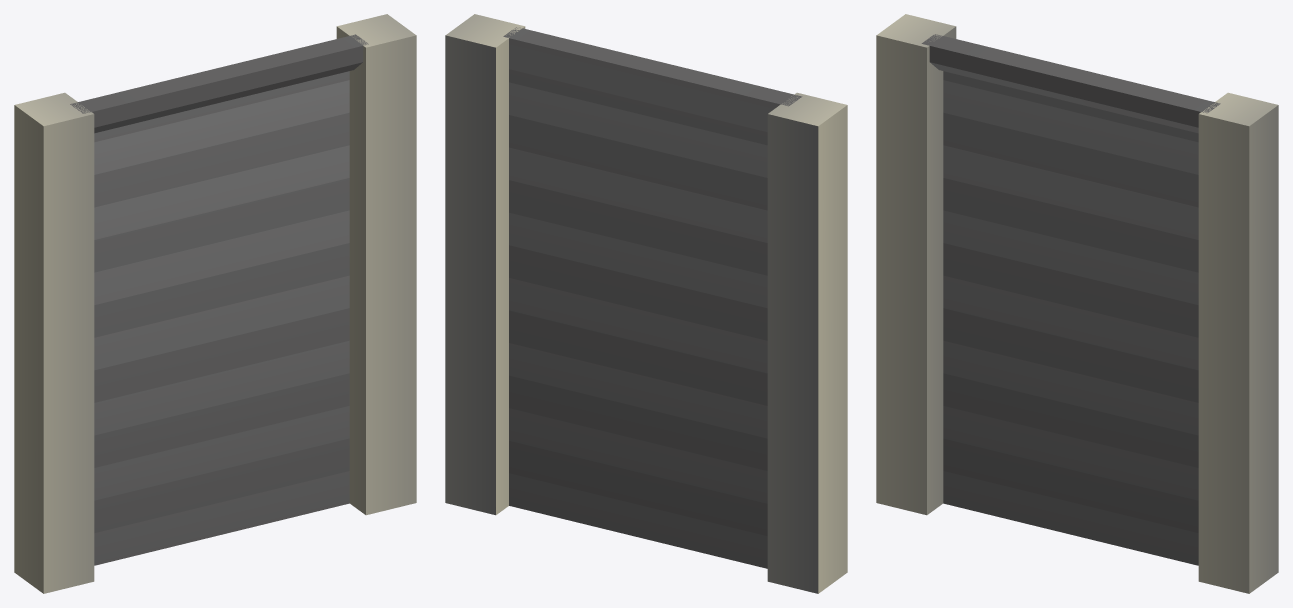
Rendered from B02_volet_2.fbx.
The picture shows the model from 3 angles, left to right: view 1: azimuth 30°, elevation 25°; view 2: azimuth 150°, elevation 25°; view 3: azimuth 330°, elevation 25°; orthographic projection.
Visible parts, largest first — view 1: B02_volet_2; view 2: B02_volet_2; view 3: B02_volet_2.
Part boxes in pixels (<box>): B02_volet_2: <box>14,14,416,593</box>; B02_volet_2: <box>445,14,847,593</box>; B02_volet_2: <box>876,14,1278,593</box>.
Bounding box in the file's own units: 338 × 405 × 45.84.
